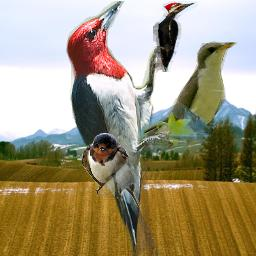Cuckoo: (143, 39, 238, 150)
Swallow: (82, 133, 141, 210)
Woodpecker: (65, 1, 173, 256), (153, 1, 198, 72)
